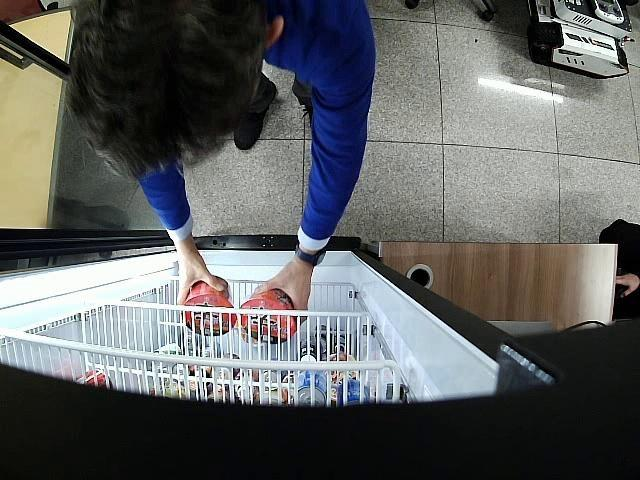01_ShinRamen_L: (182, 276, 236, 335), (242, 288, 296, 345)
